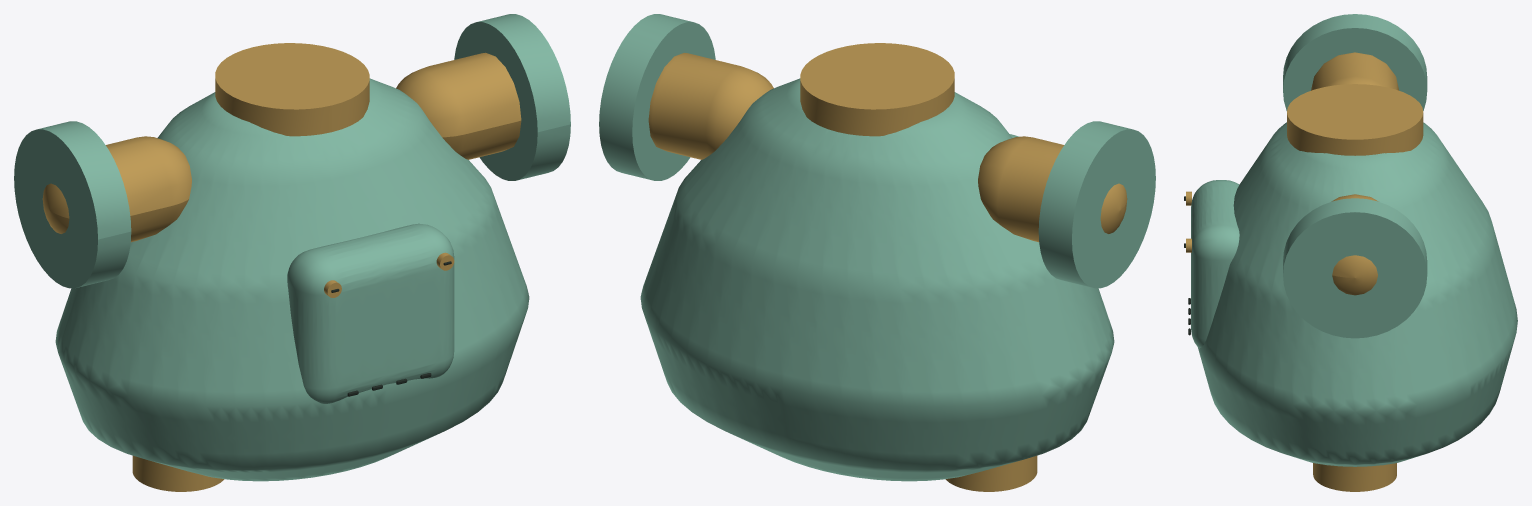
The model's file is hotshot-torso-1.glb.
3 renders of one model, left to right at view 1: azimuth 30°, elevation 25°; view 2: azimuth 150°, elevation 25°; view 3: azimuth 270°, elevation 25°, orthographic. The views are drawn at different scales.
Parts seen in each view (by area): view 1: torso_clay, torso_hardware, torso_paint; view 2: torso_clay, torso_hardware, torso_paint; view 3: torso_clay, torso_paint, torso_hardware.
Boxes of the visible parts, <box> form: torso_clay: <box>55,78,529,481</box>; torso_hardware: <box>42,43,521,491</box>; torso_paint: <box>14,14,570,288</box>; torso_clay: <box>640,78,1114,481</box>; torso_hardware: <box>648,43,1127,491</box>; torso_paint: <box>599,14,1155,288</box>; torso_clay: <box>1191,122,1517,466</box>; torso_paint: <box>1283,14,1427,338</box>; torso_hardware: <box>1186,52,1423,491</box>.
Size of the model in its own units: 1.62 by 1.17 by 1.12.
